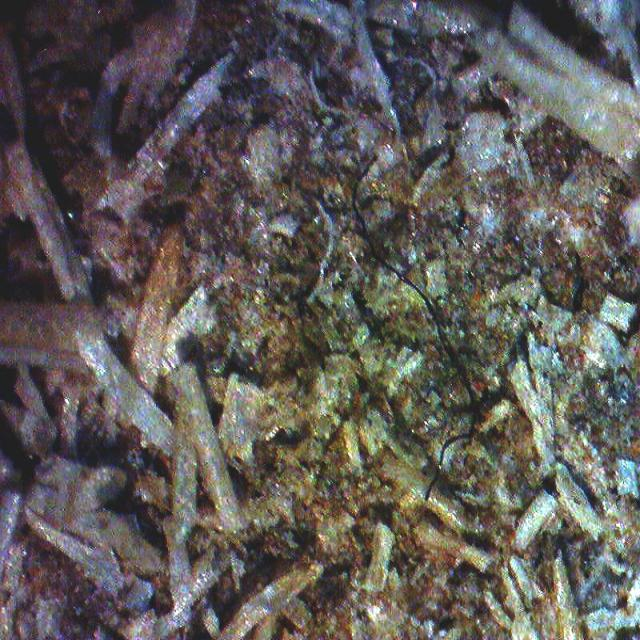microplastic: (352, 155, 476, 467)
